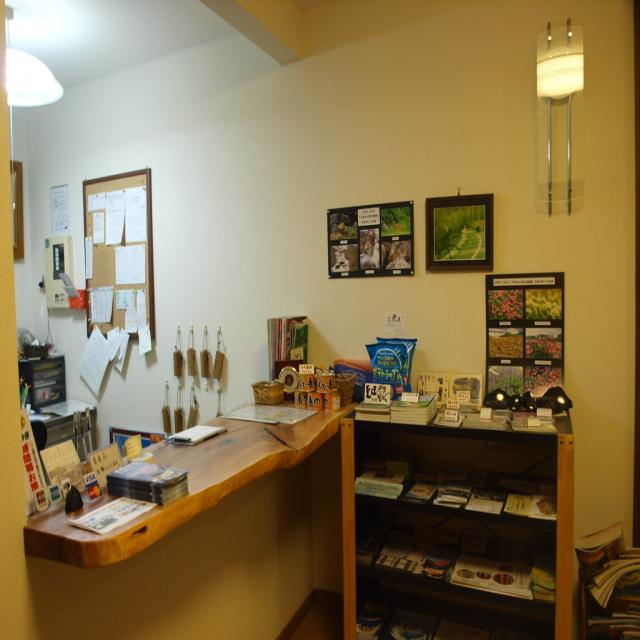desk: (17, 394, 398, 614)
